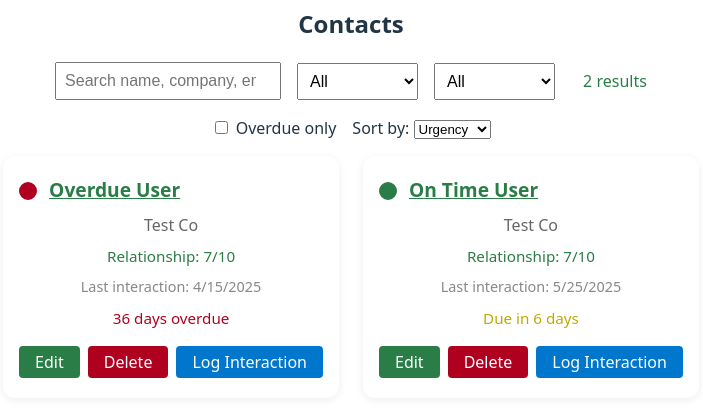
Test: ContactsGrid integration › can filter to show only overdue contacts
Check: the link "Overdue User" is shown, box [49,176,180,205]
Check: the link "On Time User" is shown, box [409,176,538,205]
--- Filter ---
Click the checkbox labelled "Overdue only": [222, 128] box [216,121,228,134]
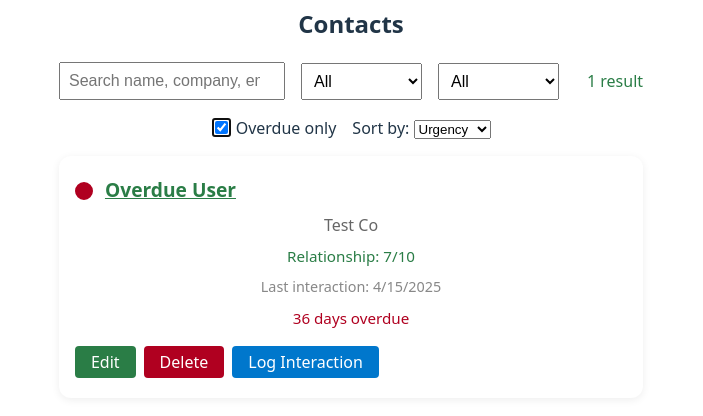
Check: the link "Overdue User" is shown, box [105,176,236,205]
Check: the link "On Time User" is gone
--- Un-filter ---
Click the checkbox labelled "Overdue only": [222, 128] box [216,121,228,134]
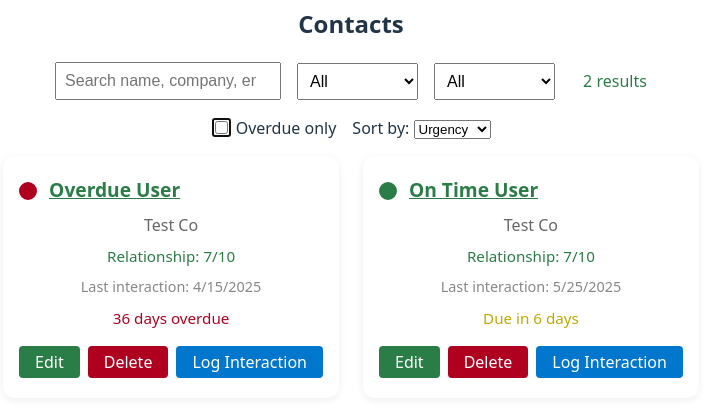
Check: the link "On Time User" is shown, box [409,176,538,205]
